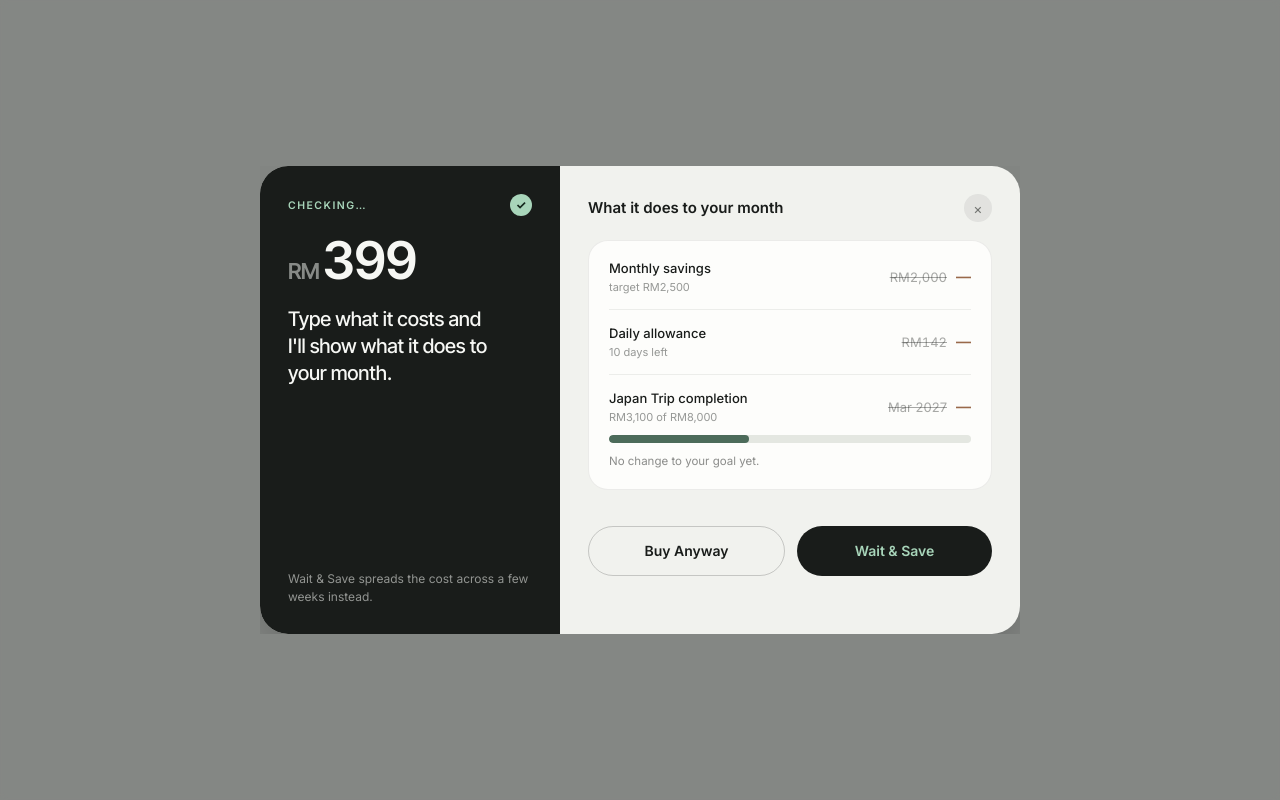
it: AffordModal › warns when the purchase exceeds what is left
This screenshot has width=1280, height=800.
Replace the text in the field named "Amount in ringgit" with "1500" at (412, 261), box [322, 232, 502, 290]
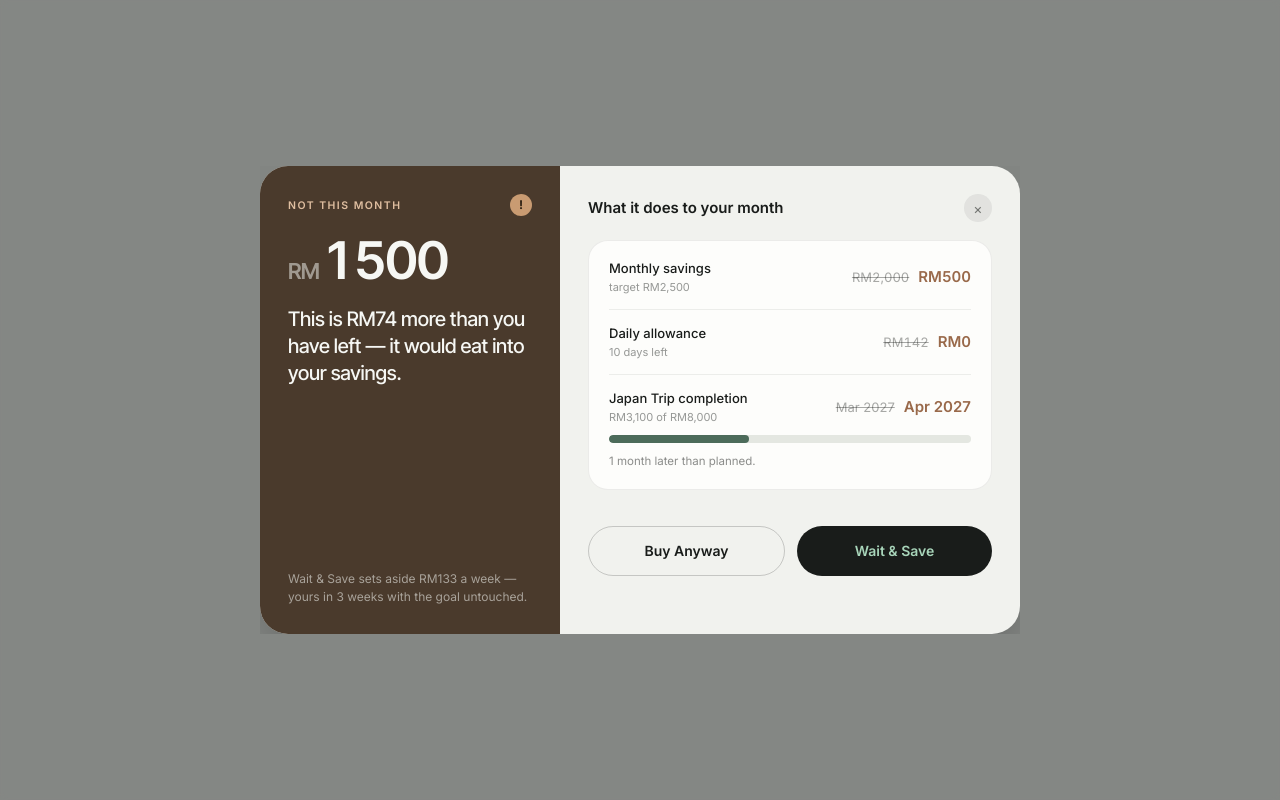
Expected: the text "Not this month" is shown, [288, 198, 402, 213]
Expected: the text "This is RM74 more than you have left — it would eat into your savings." is shown, [288, 306, 532, 387]
